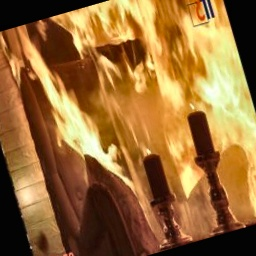fire: (21, 0, 256, 256)
